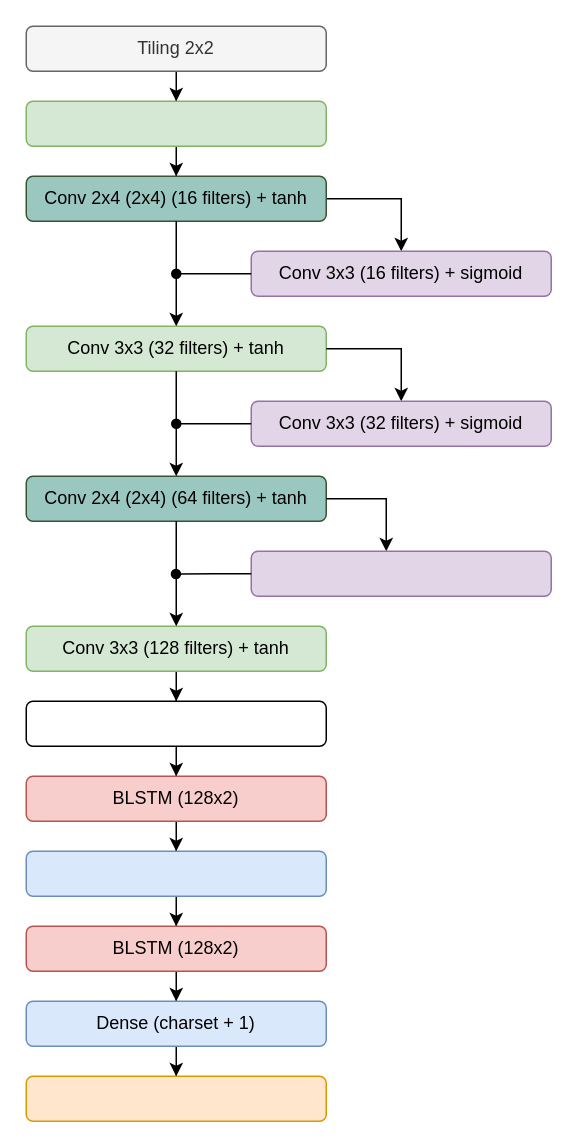
Some shapes in this 578 by 1148 pixel diagram are drawn without their labels. The box of each missing label's shape, as (x1, y1, x2, y2) in pixels:
Conv 3x3 (64 filters) + sigmoid: (250, 550, 551, 596)
Conv 3x3 (8 filters) + tanh: (25, 100, 326, 146)
Dense (128) + tanh: (25, 850, 326, 896)
MaxPooling 1x4 (1x4): (25, 700, 326, 746)
Softmax: (25, 1075, 326, 1121)
